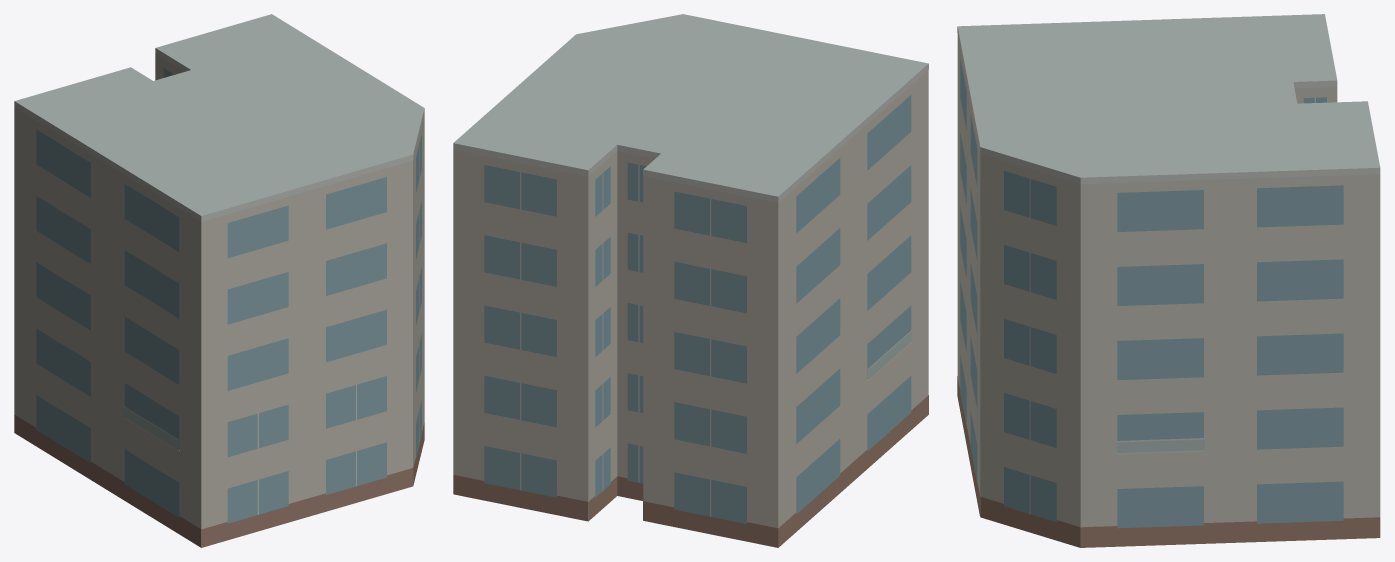
File: survey-upis-32979263.glb
3 renders of one model, left to right at view 1: azimuth 30°, elevation 25°; view 2: azimuth 150°, elevation 25°; view 3: azimuth 270°, elevation 25°, orthographic. The views are drawn at different scales.
Visible parts, largest first — view 1: survey-upis-32979263.tmp; view 2: survey-upis-32979263.tmp; view 3: survey-upis-32979263.tmp.
Part boxes in pixels (bbox=[...]): survey-upis-32979263.tmp: bbox=[14, 14, 424, 547]; survey-upis-32979263.tmp: bbox=[453, 14, 928, 547]; survey-upis-32979263.tmp: bbox=[957, 14, 1380, 547].
Bounding box in the file's own units: 13.19 × 13.9 × 14.4.
